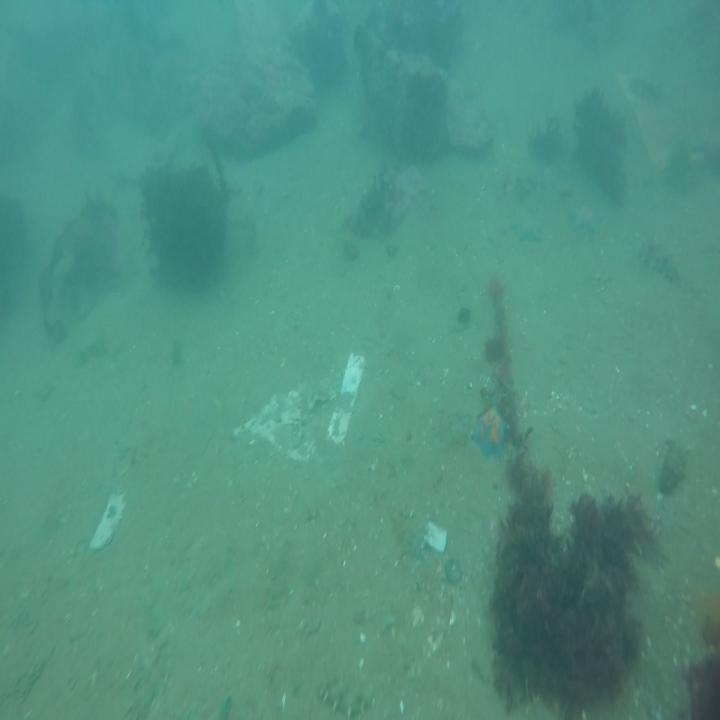holothurian: (636, 230, 687, 293)
starfish: (469, 403, 515, 462)
